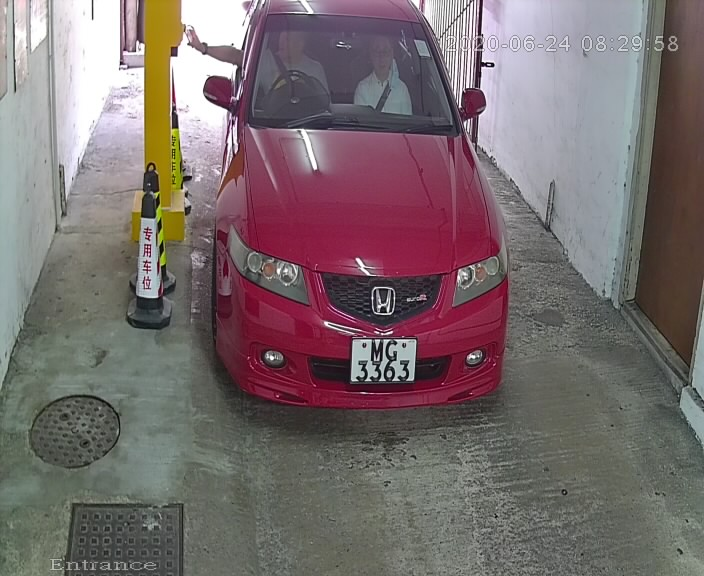privatecar: (183, 1, 537, 453)
